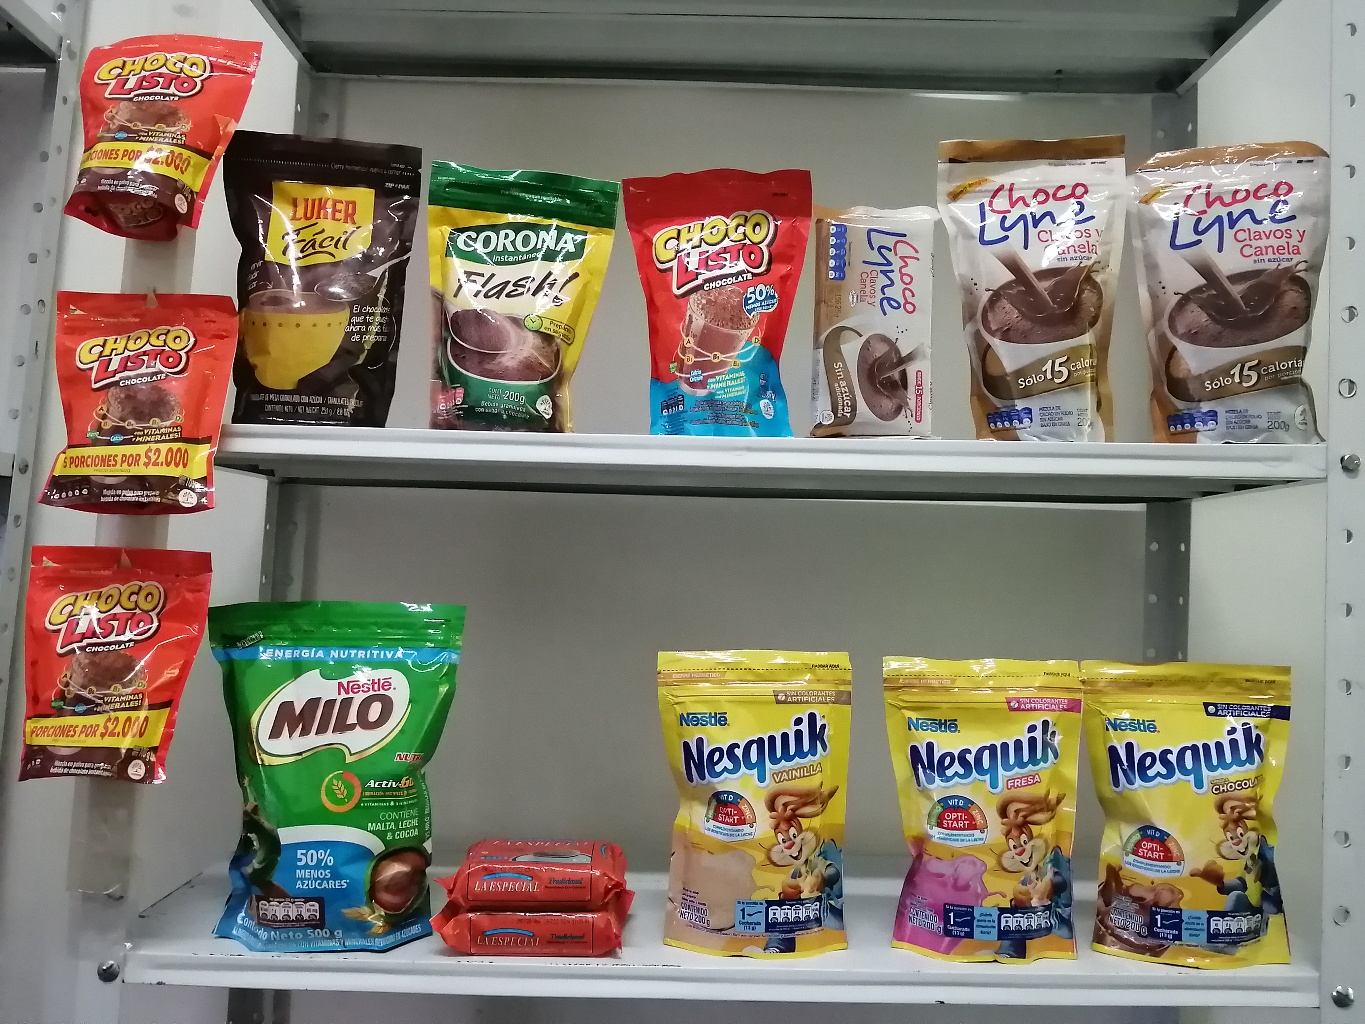COL0170104DYP20000: (611, 152, 814, 442)
COL0170205DYP50000: (194, 579, 481, 966)
COL0170303DYP20000: (1071, 645, 1312, 981)
COL0170305DYP20000: (861, 641, 1104, 984)
COL0170306DYP20000: (640, 630, 883, 973)
